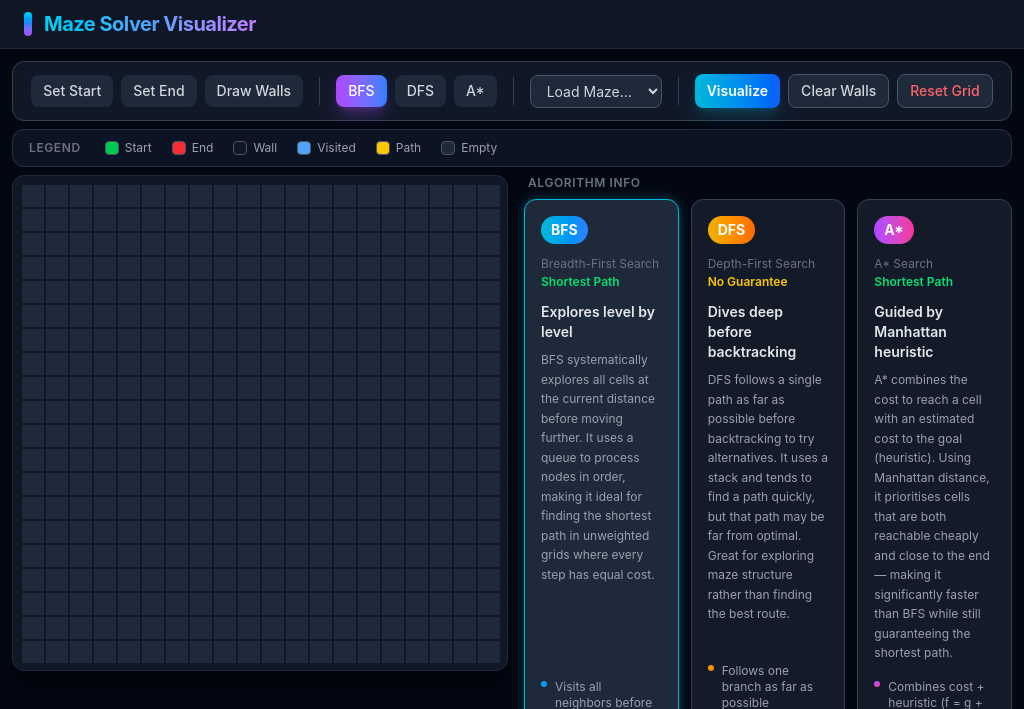
Test: Error message display and dismissal › dismisses error message when the close button is clicked
Click the button "Visualize" at [737, 91], box left=695, top=74, right=780, bottom=108
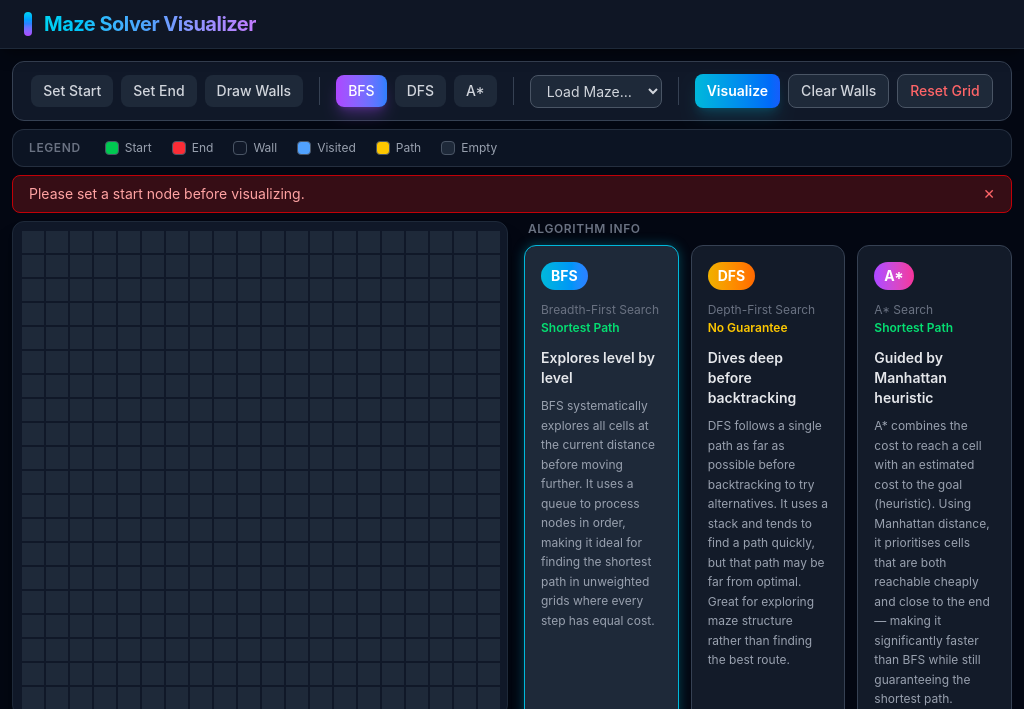
Result: the text "Please set a start node before visualizing." is shown at left=29, top=184, right=305, bottom=204
# Click the dismiss button (✕)
Click the button "✕" at [989, 194], box left=983, top=184, right=995, bottom=204
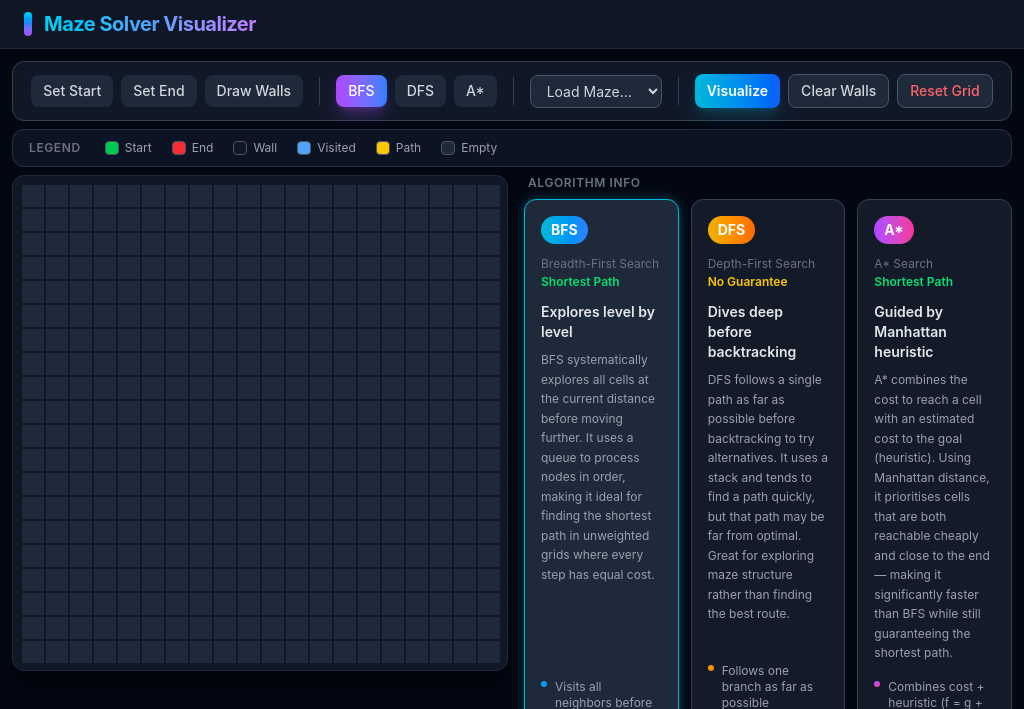
Result: the text "Please set a start node before visualizing." is gone
